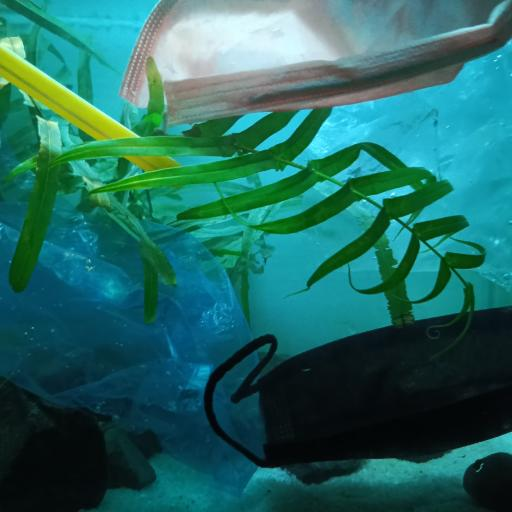mask: (204, 307, 512, 469), (117, 0, 512, 125)
plastic_bag: (0, 140, 265, 493), (312, 74, 512, 282)
plastic_straw: (0, 43, 184, 187)
